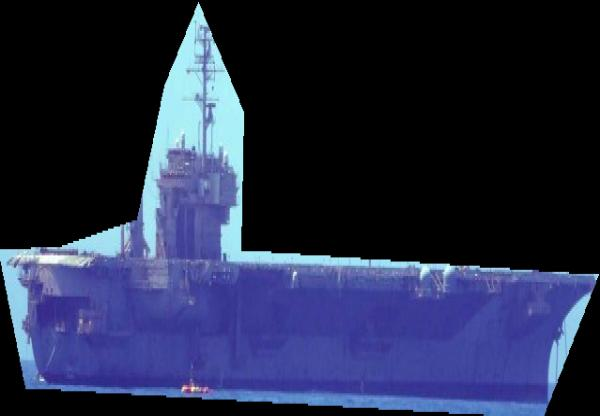Aircraft Carrier: (0, 2, 599, 416)
